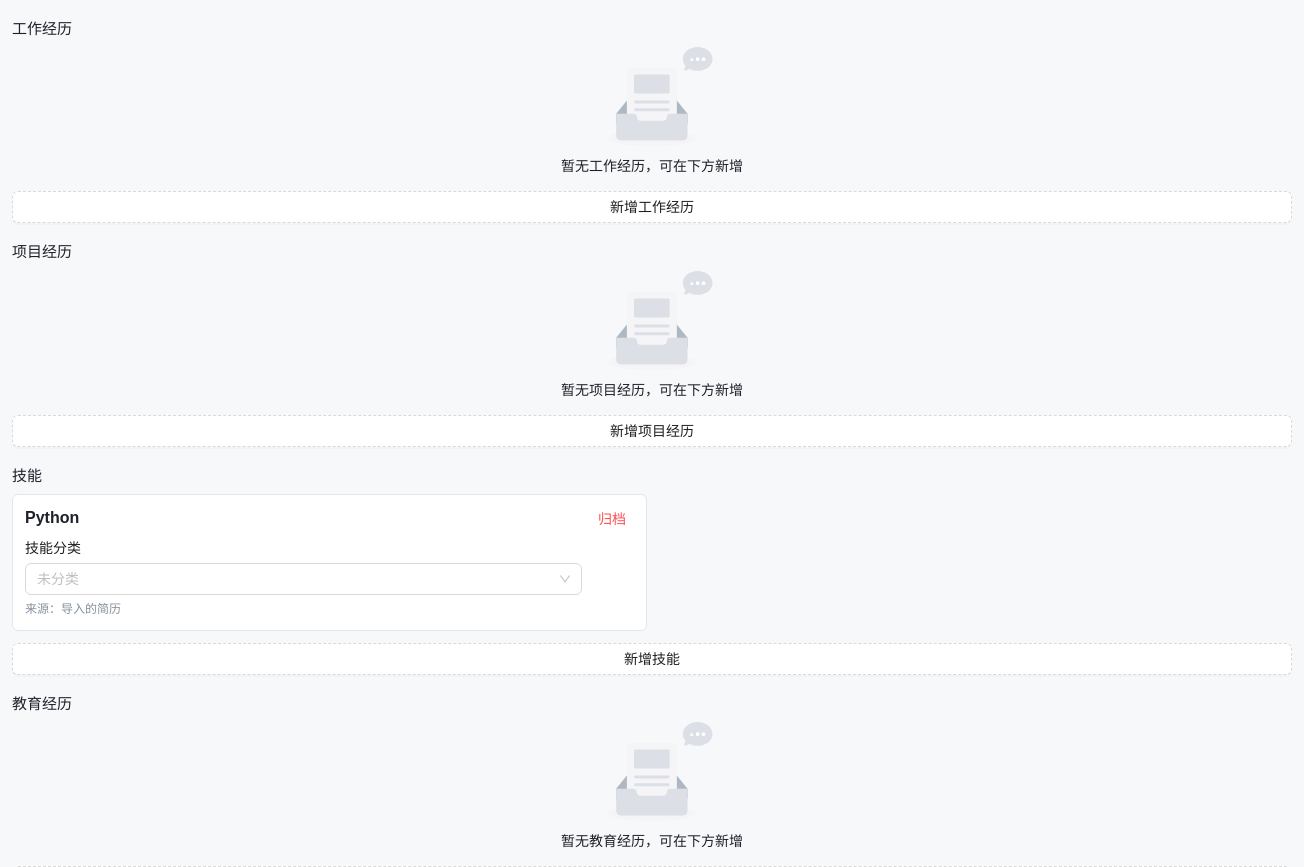
Test: 已保存技能显示名称、可编辑分类、来源和删除按钮
Expected: the text with class "skill-source" reads "来源：导入的简历", top-left (25, 602), bottom-right (121, 616)
Expected: the button with test id "remove-item-skills-0" is shown, top-left (590, 507), bottom-right (634, 531)
Step 1. Click the button with test id "fact-skills-0-name" → click(52, 517), box top-left (25, 507), bottom-right (582, 529)
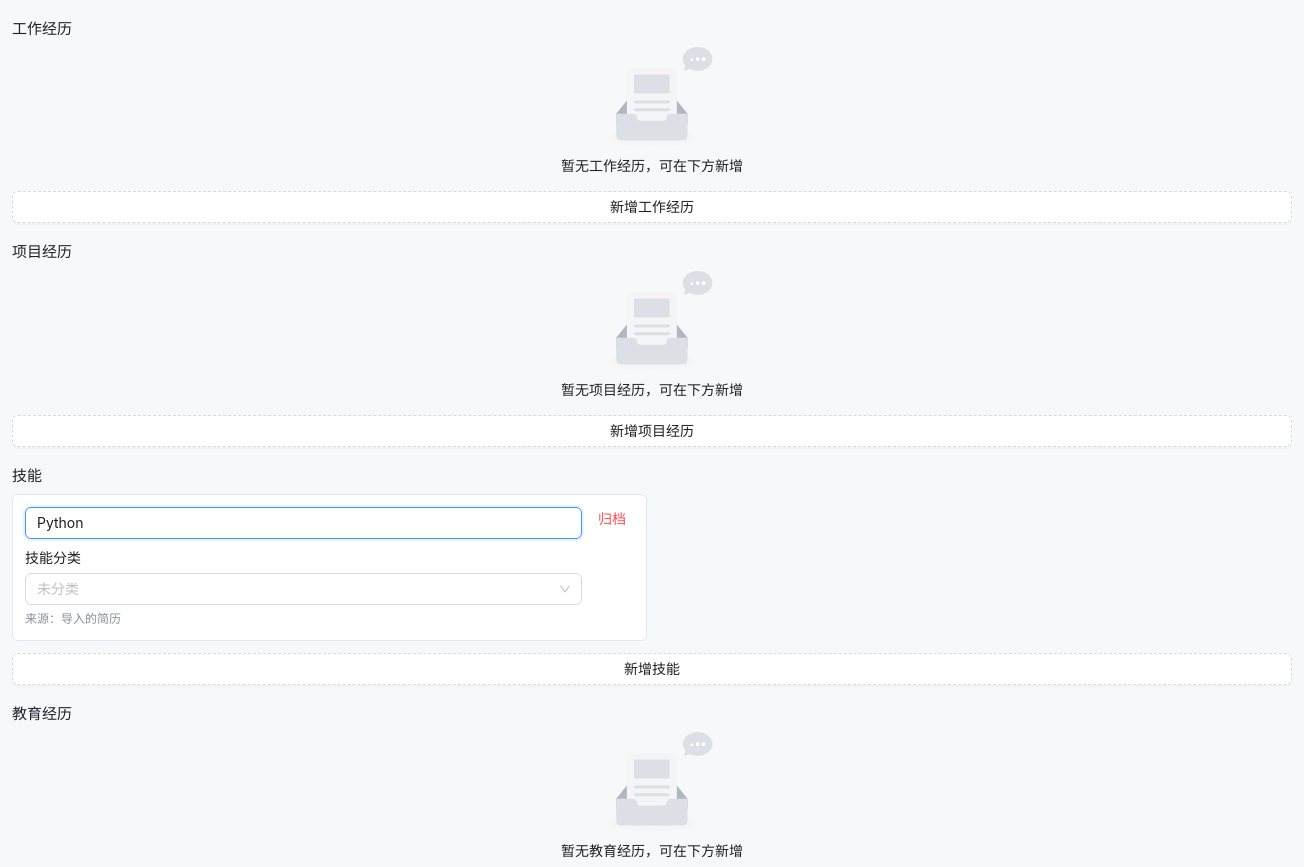
Result: the field with test id "fact-skills-0-name-input" is shown at top-left (25, 507), bottom-right (582, 539)
